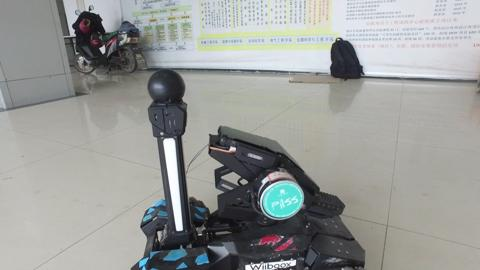chariot: (90, 61, 368, 264)
